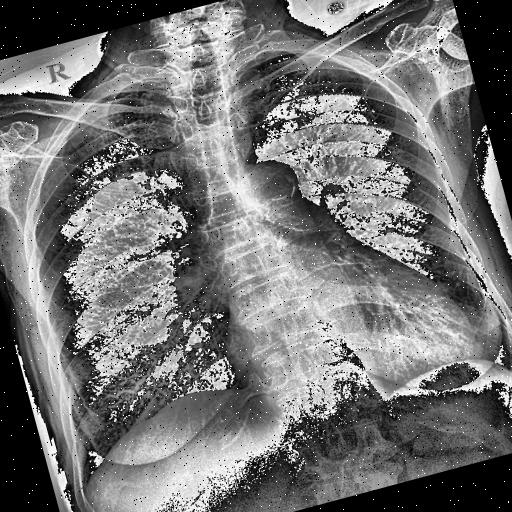0- Aortic enlargement: (246, 132, 312, 214)
2- Calcification: (232, 142, 317, 226), (264, 160, 306, 205)
